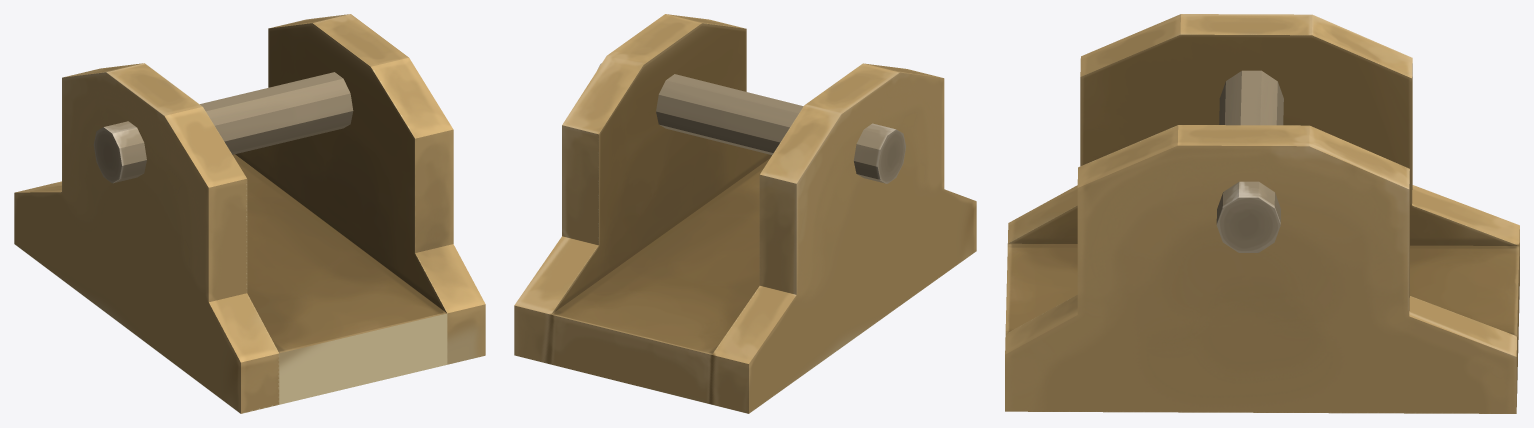
File: pirateCannonPos.fbx
3 renders of one model, left to right at view 1: azimuth 30°, elevation 25°; view 2: azimuth 150°, elevation 25°; view 3: azimuth 270°, elevation 25°, orthographic. The views are drawn at different scales.
Visible parts, largest first — view 1: polySurface4; view 2: polySurface4; view 3: polySurface4.
Boxes of the visible parts, <box> form: polySurface4: <box>14,14,485,413</box>; polySurface4: <box>514,14,976,413</box>; polySurface4: <box>1005,14,1519,413</box>.
Bounding box in the file's own units: 929 × 716 × 1252.
